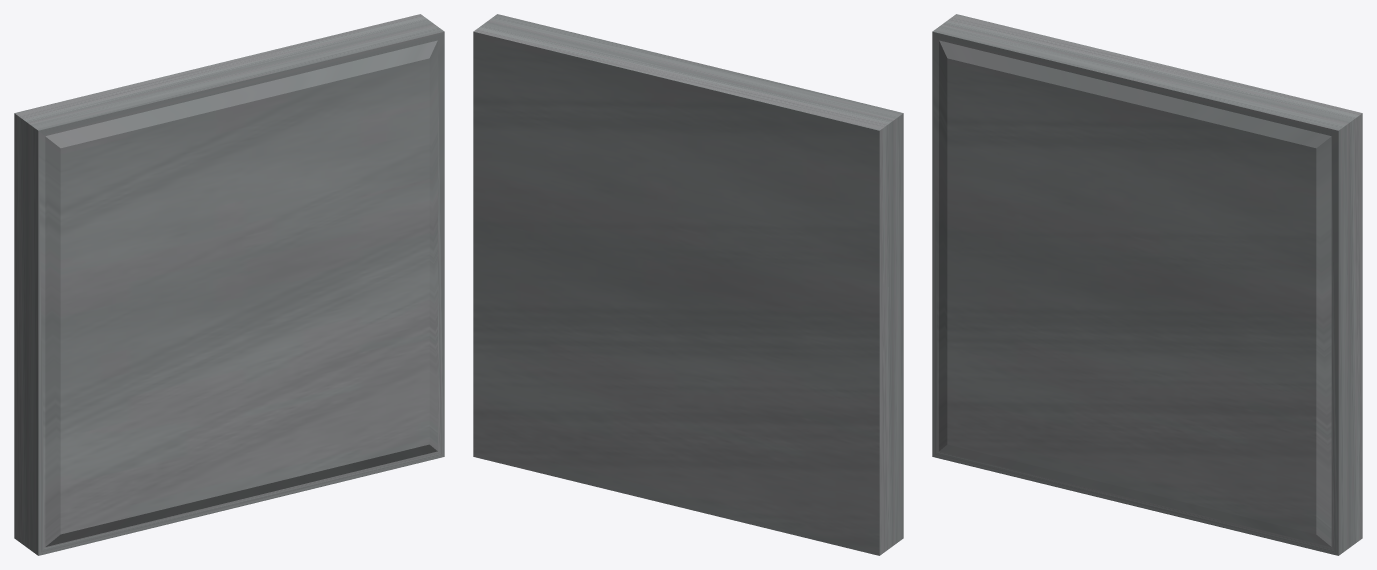
File: WallAsset1.FBX
3 renders of one model, left to right at view 1: azimuth 30°, elevation 25°; view 2: azimuth 150°, elevation 25°; view 3: azimuth 330°, elevation 25°, orthographic.
Visible parts, largest first — view 1: Box002; view 2: Box002; view 3: Box002.
Boxes of the visible parts, bbox=[...] form: Box002: bbox=[14, 14, 444, 555]; Box002: bbox=[473, 14, 903, 555]; Box002: bbox=[932, 14, 1362, 555].
Size of the model in its own units: 464 by 464 by 54.75.
Materials: 1 (1 with a texture image).
